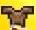breastplate: (1, 0, 36, 30)
